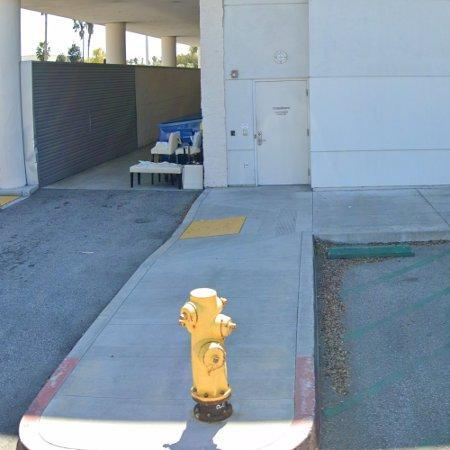a fire hydrant: (179, 289, 237, 423)
